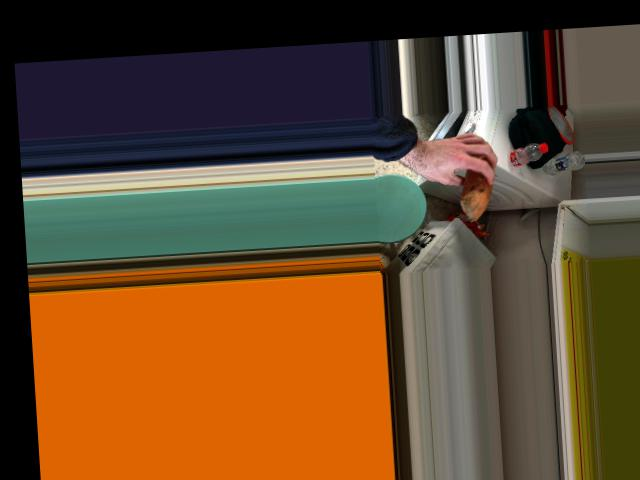sweet_potato: (458, 148, 493, 219)
